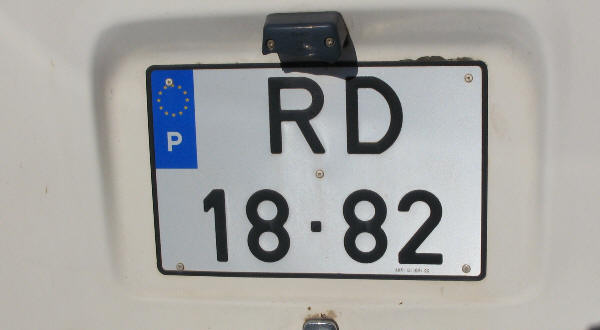license_plate: (146, 60, 488, 280)
